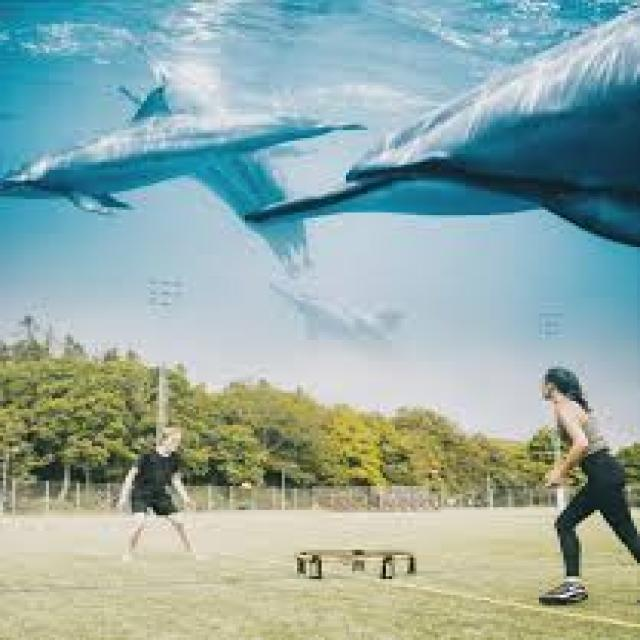dolphin: (364, 0, 640, 255), (0, 82, 297, 255)
